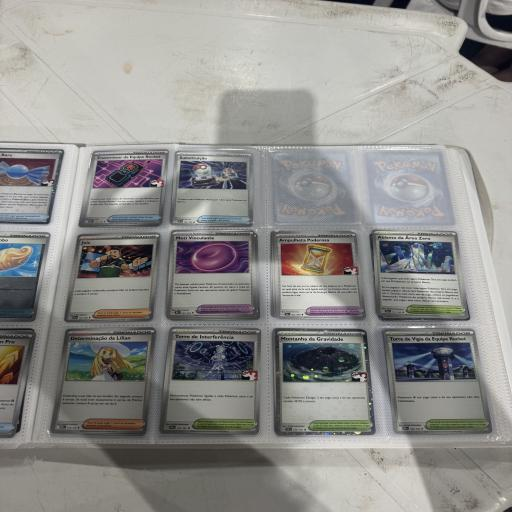card: (382, 318, 491, 444), (50, 327, 156, 434), (160, 326, 261, 435), (275, 328, 376, 436), (369, 228, 472, 319), (63, 232, 161, 322), (273, 230, 367, 320), (166, 230, 256, 318), (78, 149, 170, 227), (169, 150, 255, 227)
